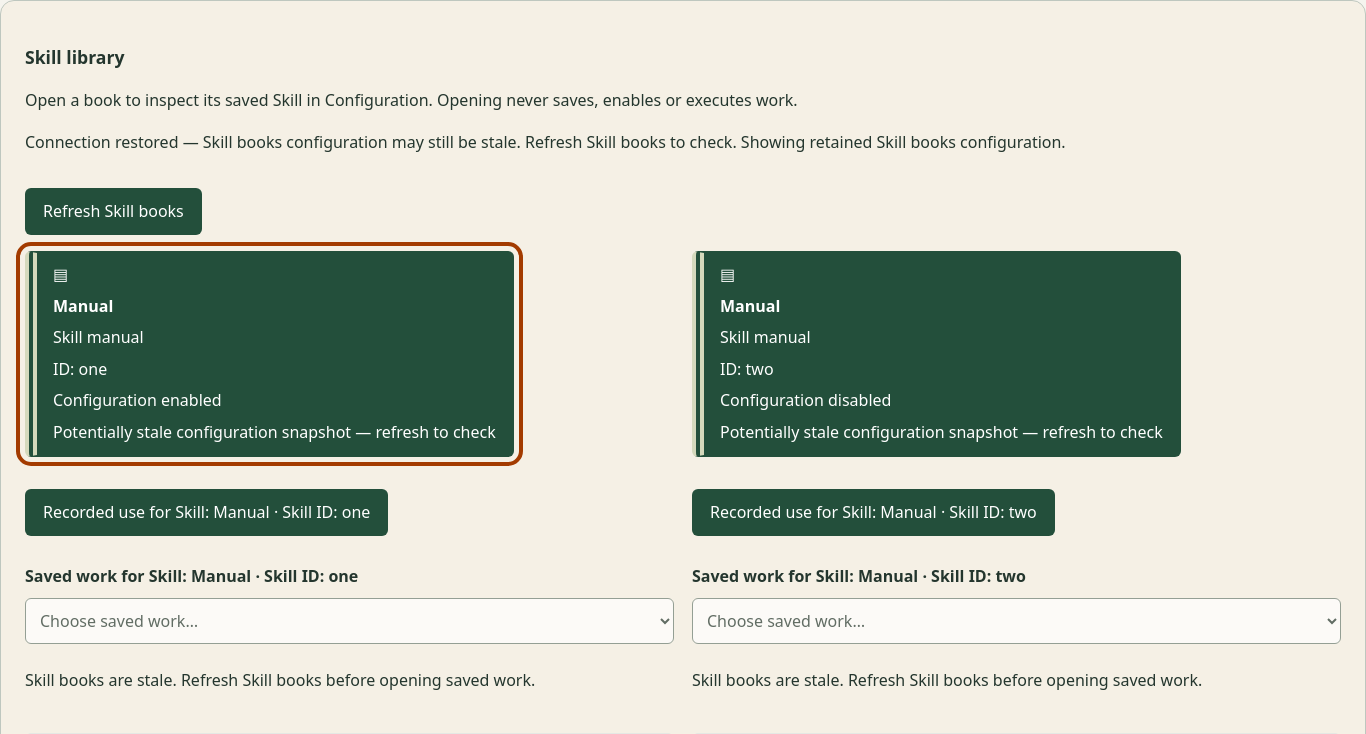
Scenario: disconnected configuration stays explicit until a successful refresh, retaining cards and keyboard focus
The width and height of the screenshot is (1366, 734).
Earlier steps of the test are not shown.
Later steps or results of the test are not shown.
Expected: the 1st message shows "Connection restored", [25,131,741,153]
Expected: the button with aria-label "Open Skill book: Manual · ID: one" shows "Potentially stale configuration snapshot", [25,251,514,457]
Click the button "Refresh Skill books" at (113, 211), box [25,188,202,235]
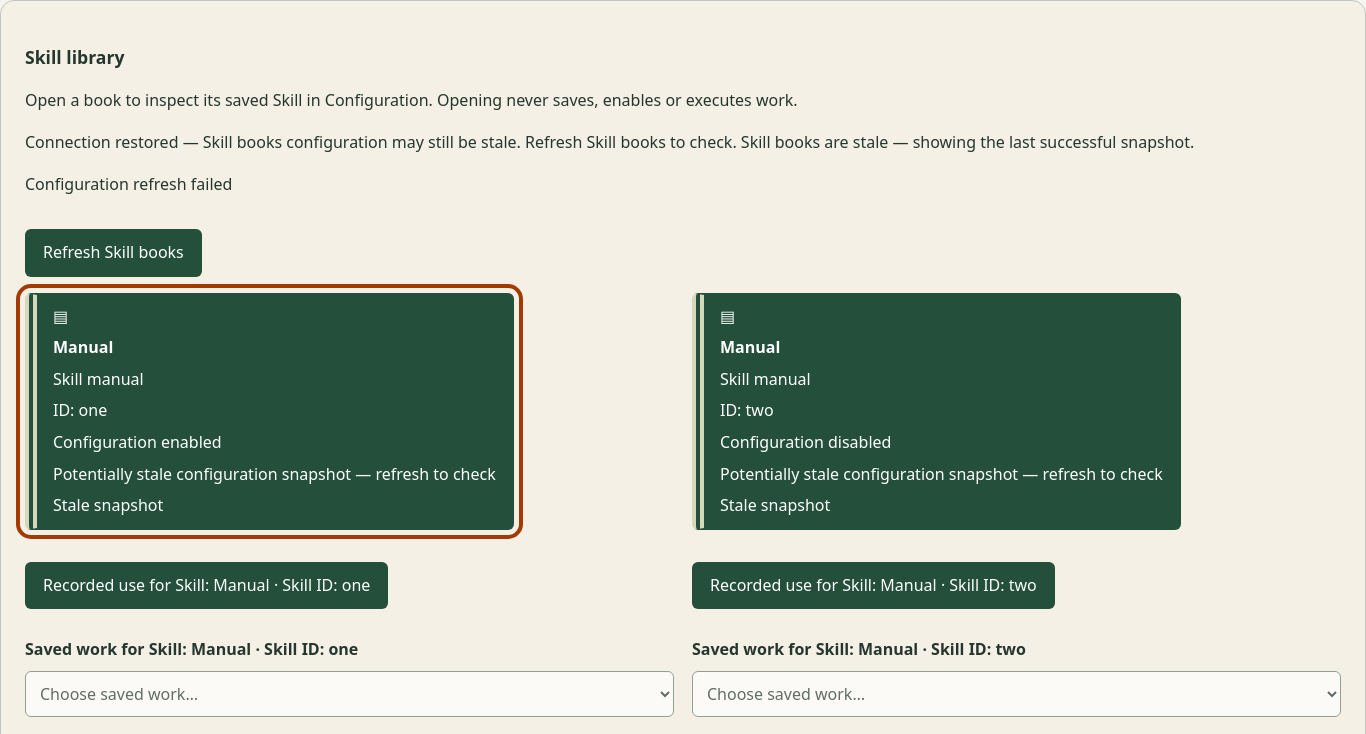
Now the message "Configuration refresh failed" is shown, box [25,172,232,194]
